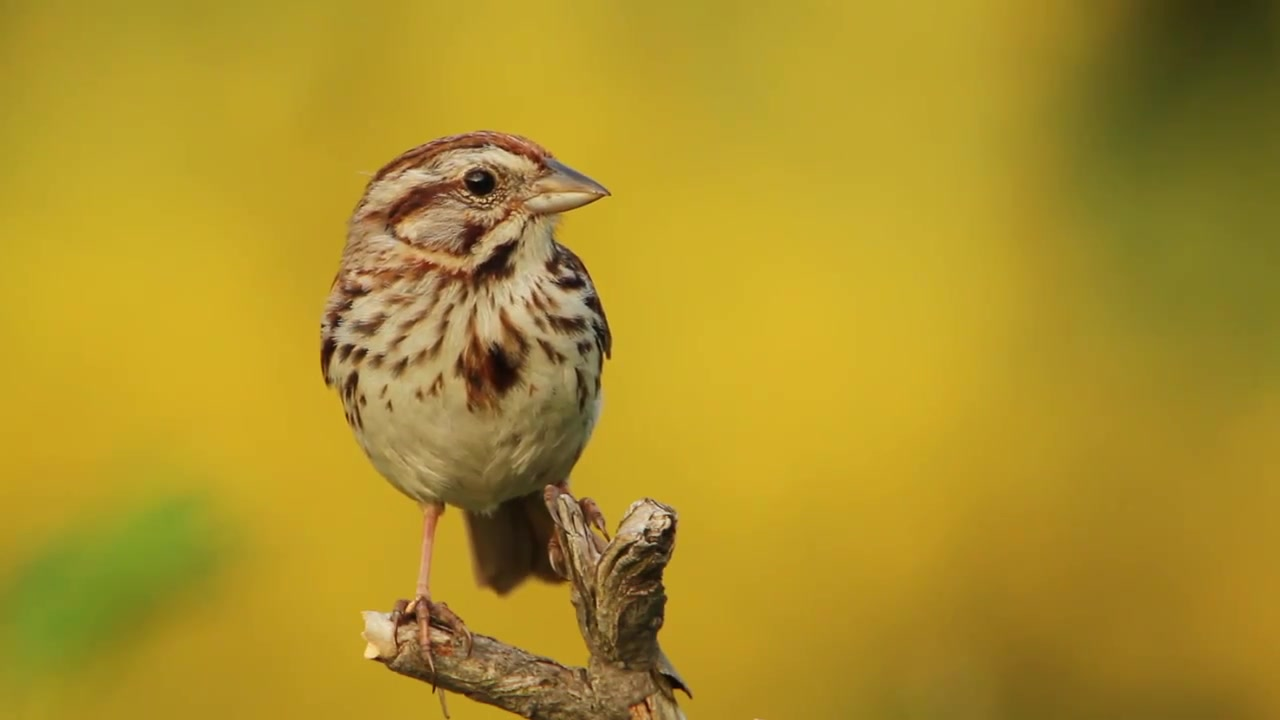bird: (318, 131, 615, 695)
